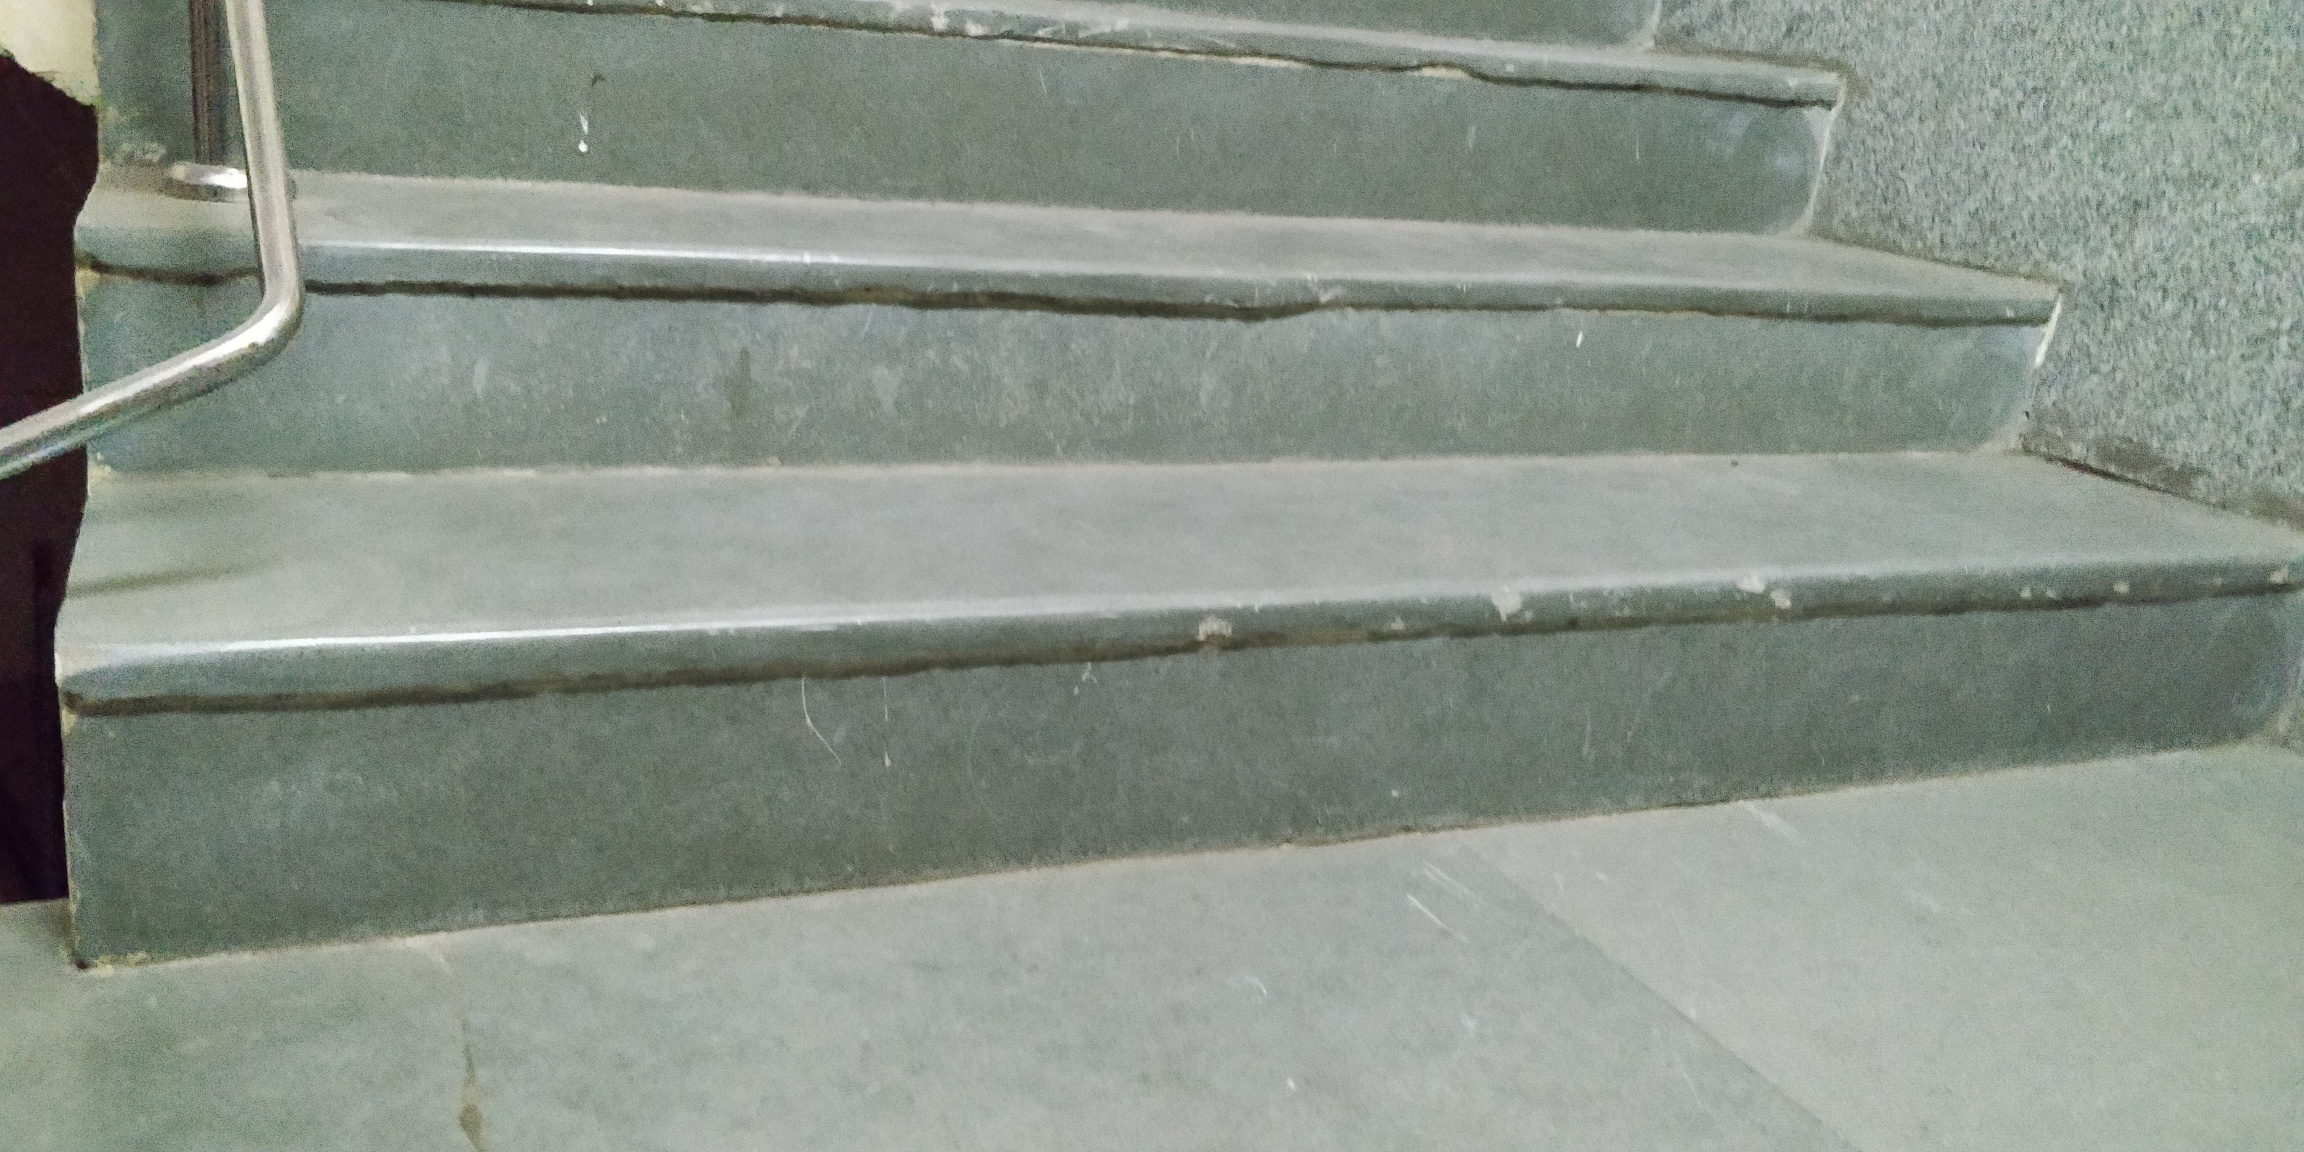stairs_up: (145, 4, 2272, 871)
